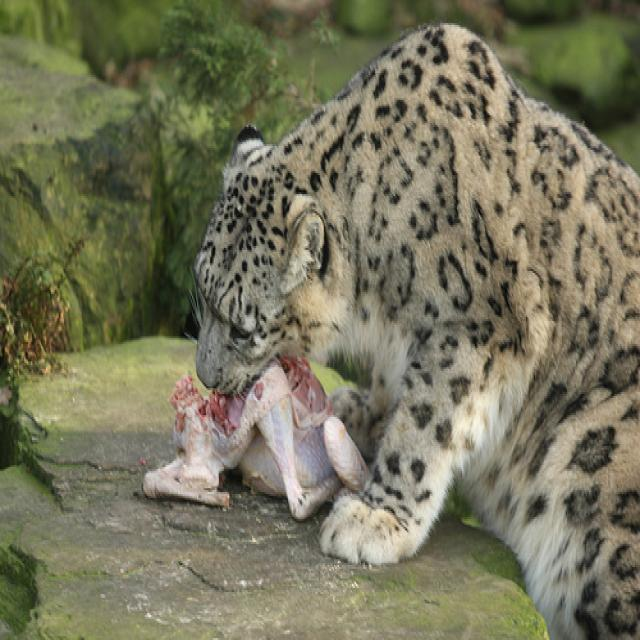Leopard: (185, 16, 638, 636)
